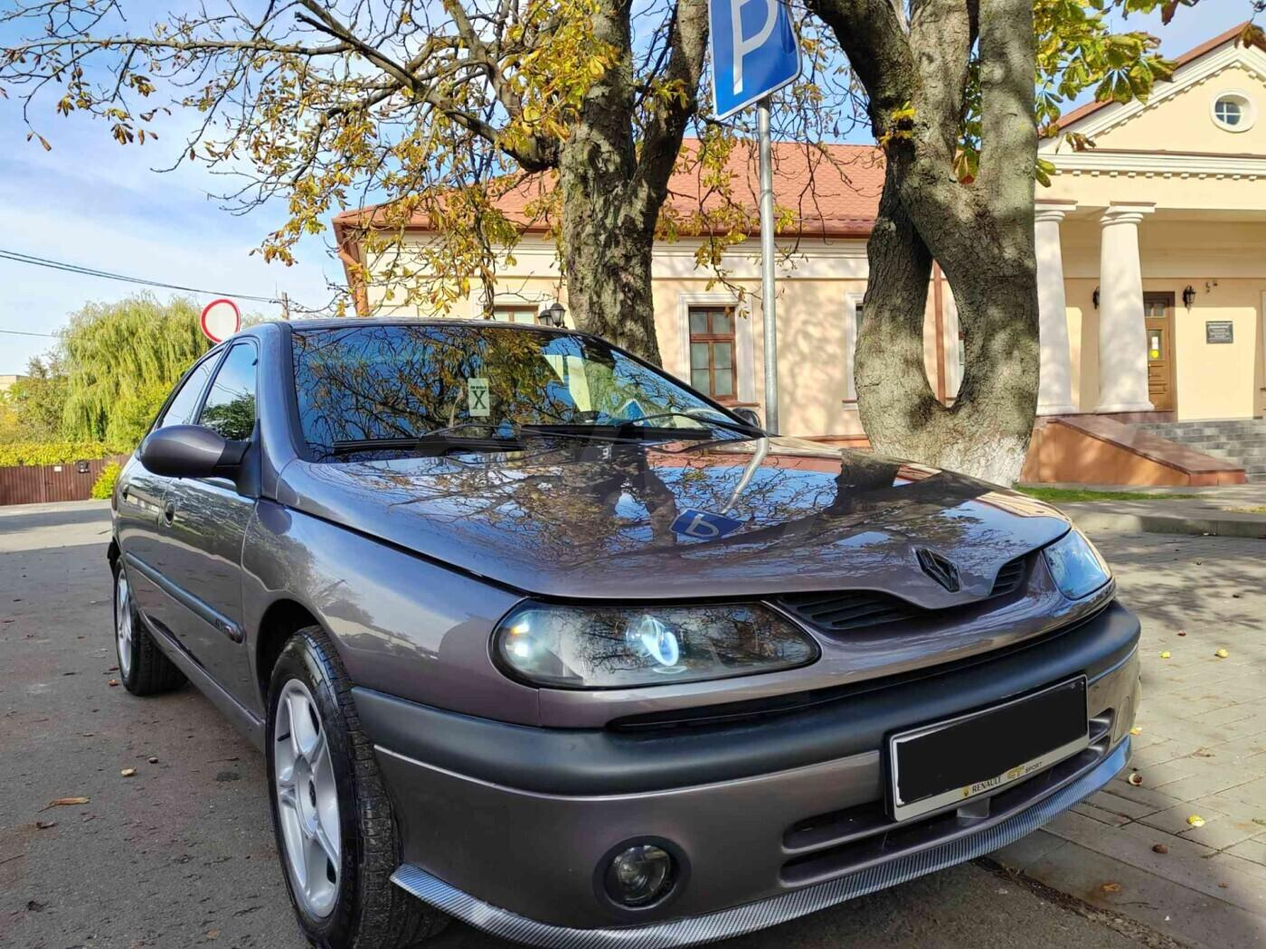Laguna_1998-2001: (98, 318, 1146, 944)
